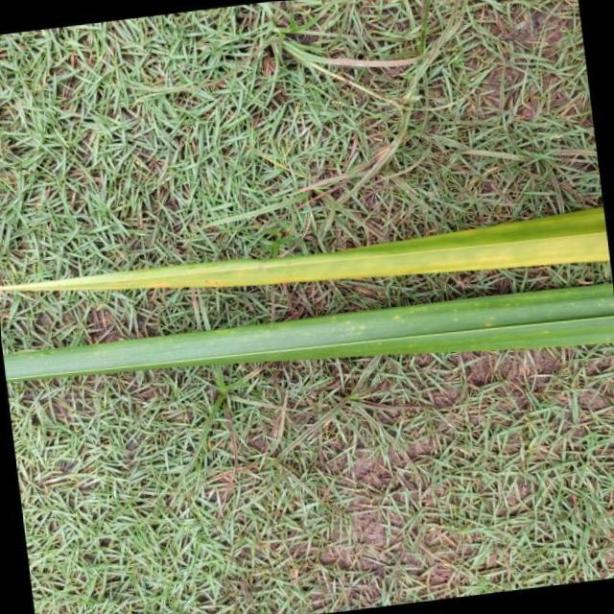nitrogen: (0, 203, 614, 293), (1, 291, 614, 380)
